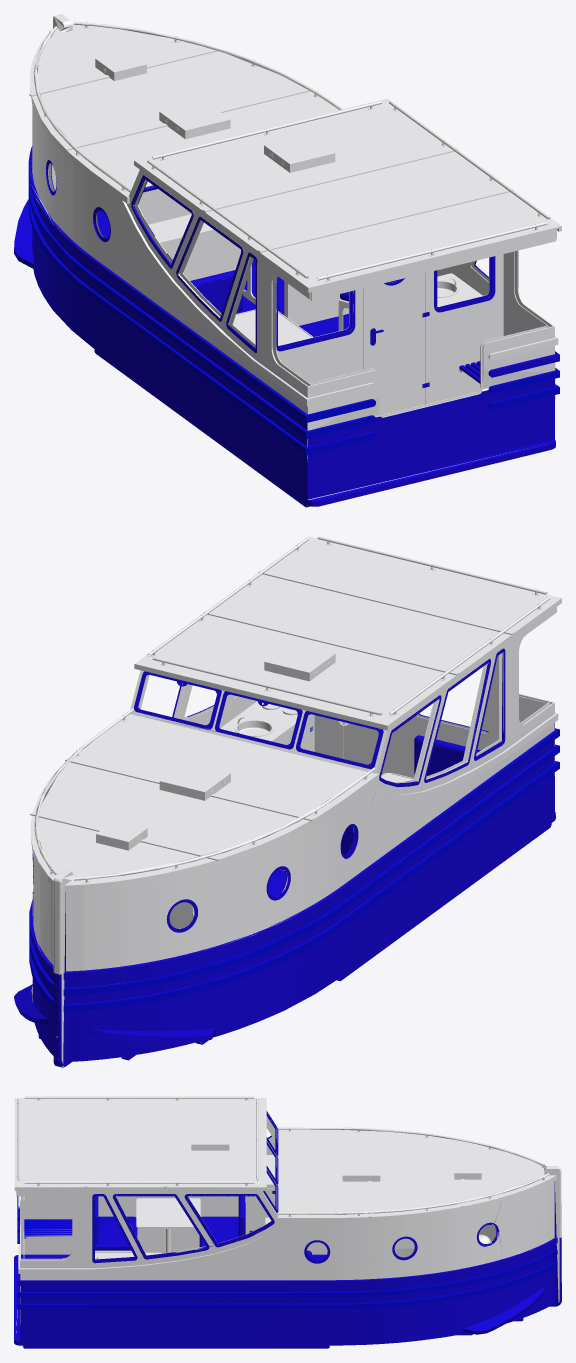
3 views of the same model, one above another, from view 1: azimuth 30°, elevation 25°; view 2: azimuth 150°, elevation 25°; view 3: azimuth 270°, elevation 25° (orthographic). The views are drawn at different scales.
Parts seen in each view (by area): view 1: imagetostl_mesh0; view 2: imagetostl_mesh0; view 3: imagetostl_mesh0.
Boxes of the visible parts, <box> form: imagetostl_mesh0: <box>14,14,561,507</box>; imagetostl_mesh0: <box>14,536,561,1067</box>; imagetostl_mesh0: <box>14,1096,561,1348</box>.
Size of the model in its own units: 14.57 by 12.87 by 37.78.
1 material, 1 textured.
